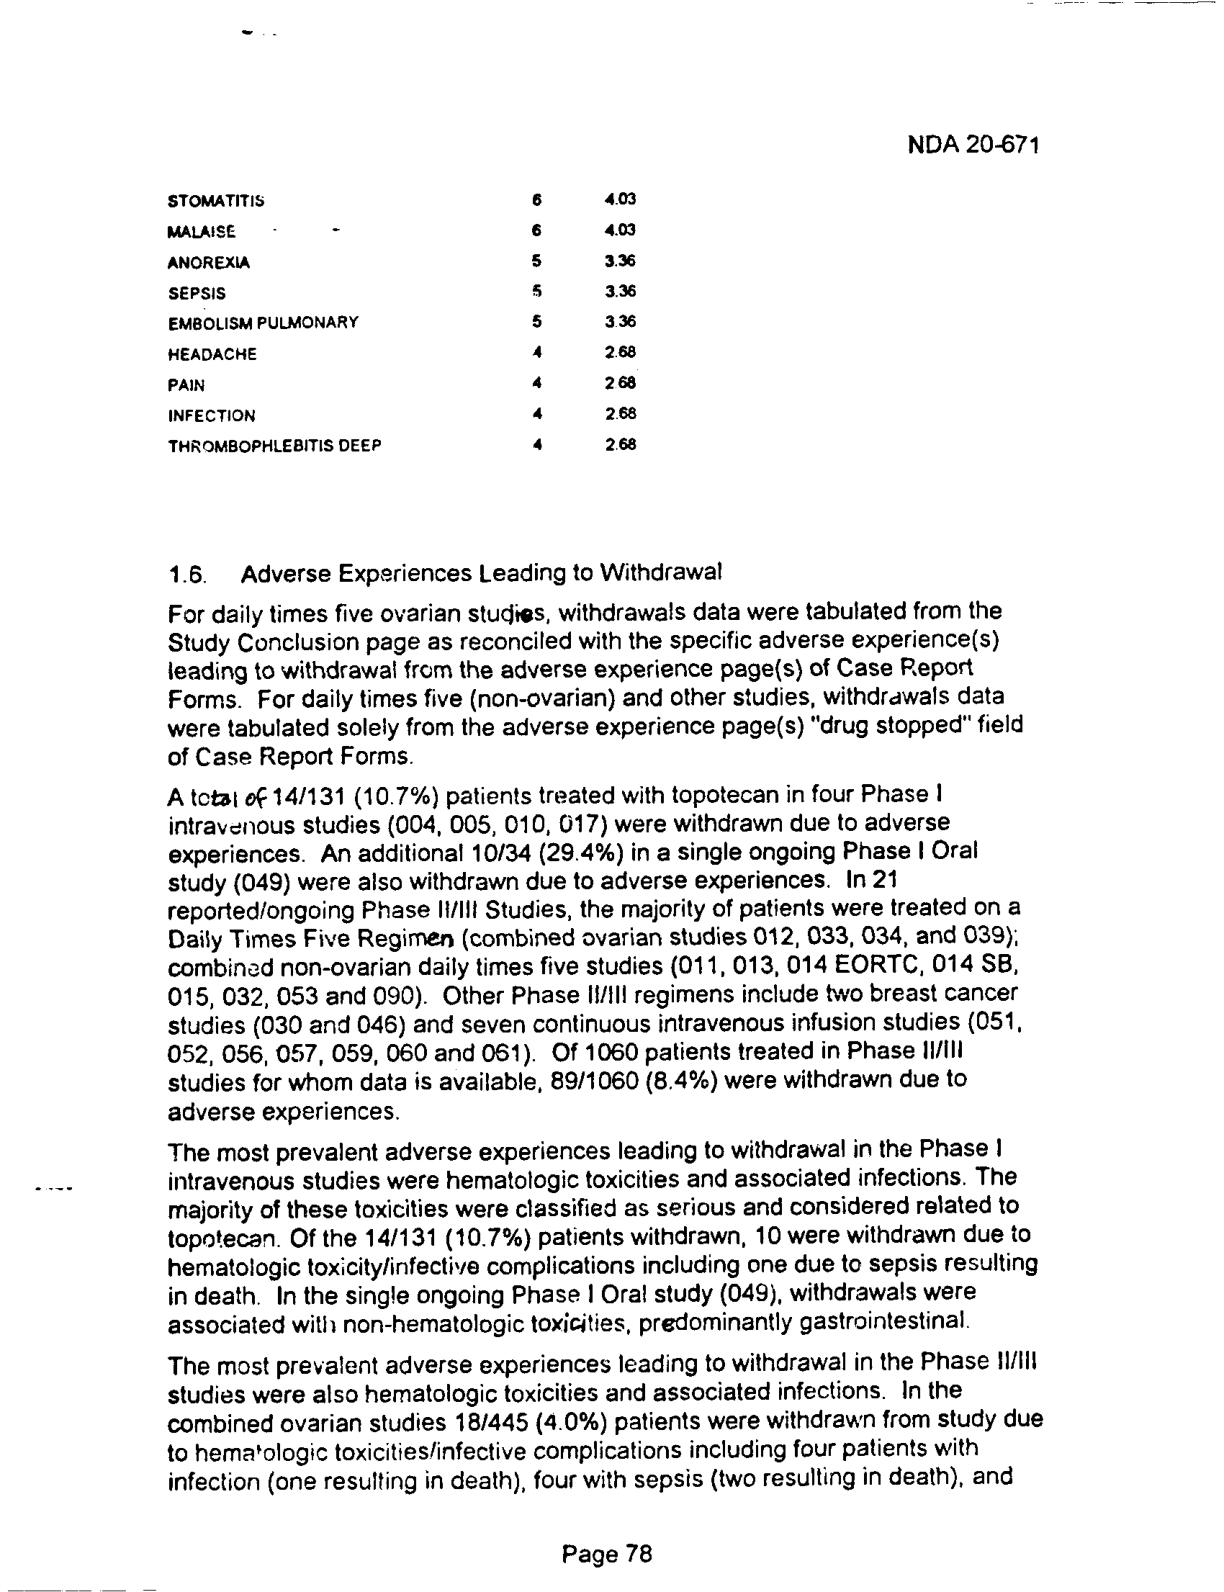nolines: (159, 184, 644, 460)
